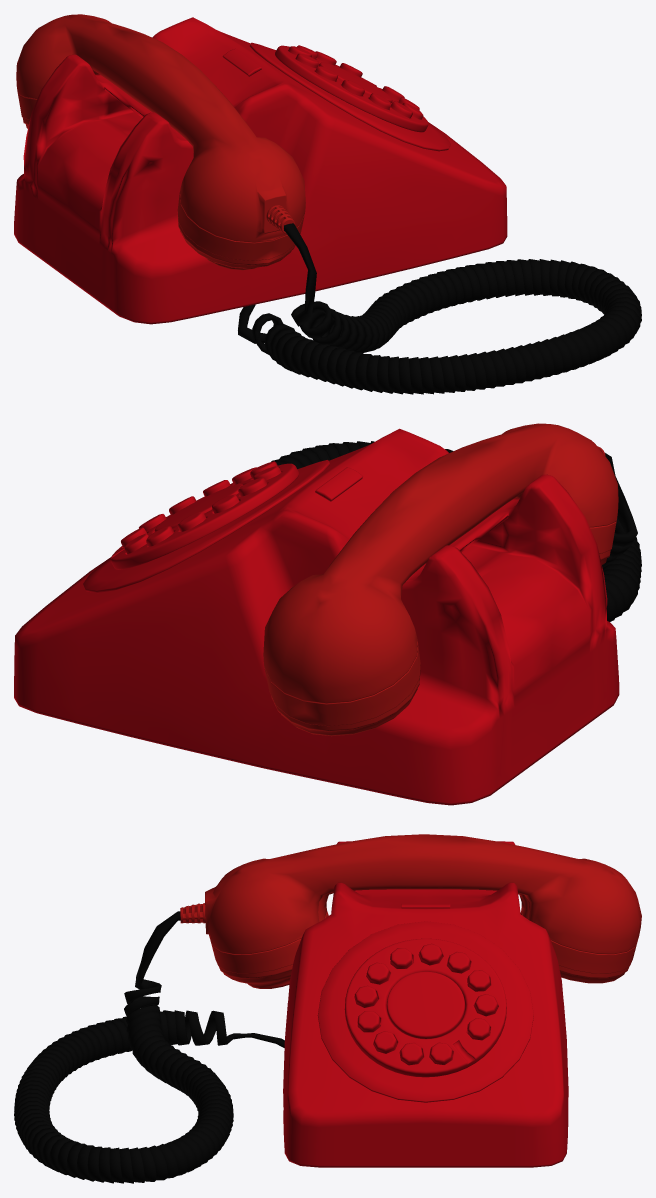
File: 4_retro-telephone.fbx
3 views of the same model, one above another, from view 1: azimuth 30°, elevation 25°; view 2: azimuth 150°, elevation 25°; view 3: azimuth 270°, elevation 25° (orthographic). The views are drawn at different scales.
Visible parts, largest first — view 1: base-001, wire-001, handset-001; view 2: base-001, handset-001, wire-001; view 3: base-001, handset-001, wire-001.
Part boxes in pixels (left/top/right/bottom): base-001: left=14, top=17, right=507, bottom=324; wire-001: left=238, top=223, right=641, bottom=394; handset-001: left=16, top=14, right=305, bottom=270; base-001: left=14, top=428, right=619, bottom=805; handset-001: left=263, top=423, right=618, bottom=736; wire-001: left=271, top=441, right=641, bottom=621; base-001: left=283, top=841, right=568, bottom=1167; handset-001: left=180, top=834, right=641, bottom=988; wire-001: left=14, top=911, right=284, bottom=1183.
Size of the model in its own units: 25.43 by 13.16 by 36.16.
